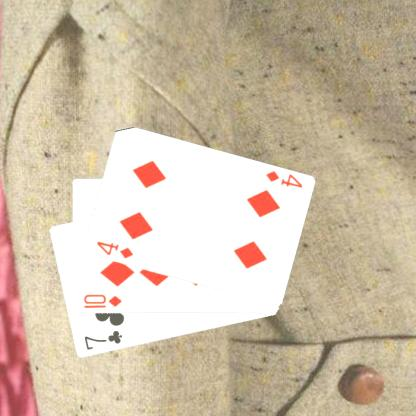10D: (80, 292, 122, 310)
4D: (262, 167, 304, 190), (94, 238, 134, 260)
7C: (80, 328, 124, 352)
